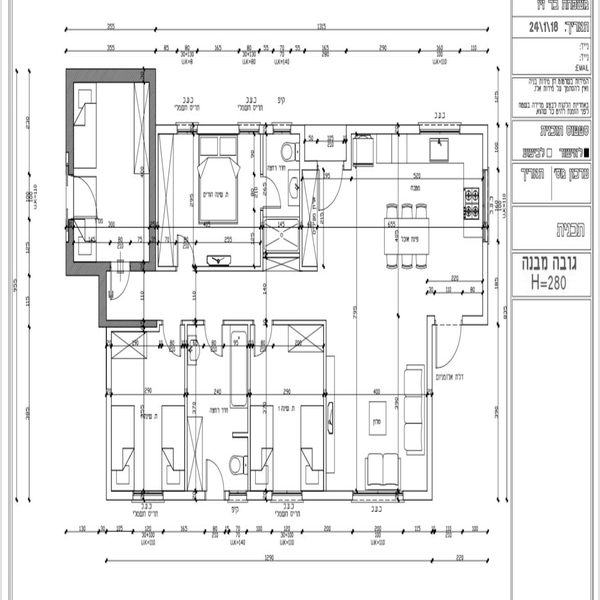door: (432, 316, 472, 381), (304, 167, 347, 215), (198, 451, 233, 505), (197, 313, 234, 360), (248, 315, 285, 358), (153, 317, 187, 355), (260, 178, 287, 210)
room: (293, 128, 497, 325), (64, 61, 157, 270), (146, 113, 264, 275), (101, 321, 197, 498), (249, 319, 330, 498), (183, 313, 255, 505)
wall: (142, 65, 162, 272), (421, 315, 439, 506), (70, 62, 154, 87), (66, 70, 84, 172), (88, 264, 113, 334), (57, 253, 107, 283), (346, 121, 417, 140), (95, 315, 159, 334), (61, 220, 79, 280), (162, 485, 207, 503), (298, 488, 350, 502)
window: (414, 118, 463, 142), (481, 170, 497, 240), (352, 485, 403, 504), (128, 486, 167, 505), (270, 485, 302, 503), (223, 492, 250, 504), (242, 122, 265, 135), (175, 122, 197, 134)
